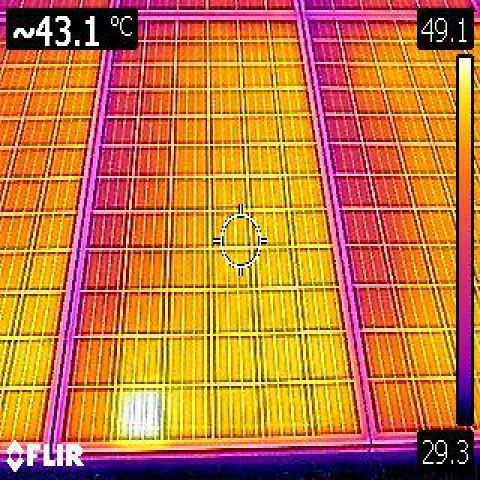fault: (115, 386, 160, 438)
